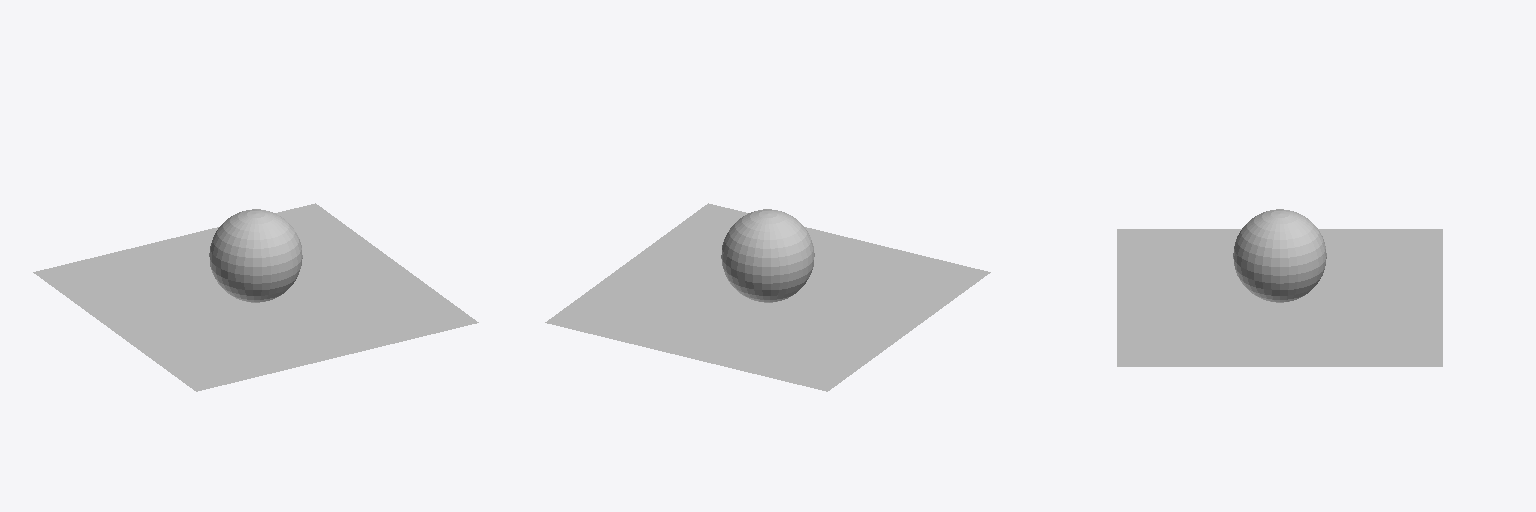
The model's file is ball.obj.
3 renders of one model, left to right at view 1: azimuth 30°, elevation 25°; view 2: azimuth 150°, elevation 25°; view 3: azimuth 270°, elevation 25°, orthographic.
Parts seen in each view (by area): view 1: Plane, Sphere; view 2: Plane, Sphere; view 3: Plane, Sphere.
Part boxes in pixels (bbox=[...]): Plane: bbox=[33, 203, 478, 391]; Sphere: bbox=[209, 209, 302, 302]; Plane: bbox=[545, 203, 990, 391]; Sphere: bbox=[721, 209, 814, 302]; Plane: bbox=[1117, 229, 1442, 366]; Sphere: bbox=[1233, 209, 1326, 302].
Bounding box in the file's own units: 3.34 × 0.9562 × 3.34.